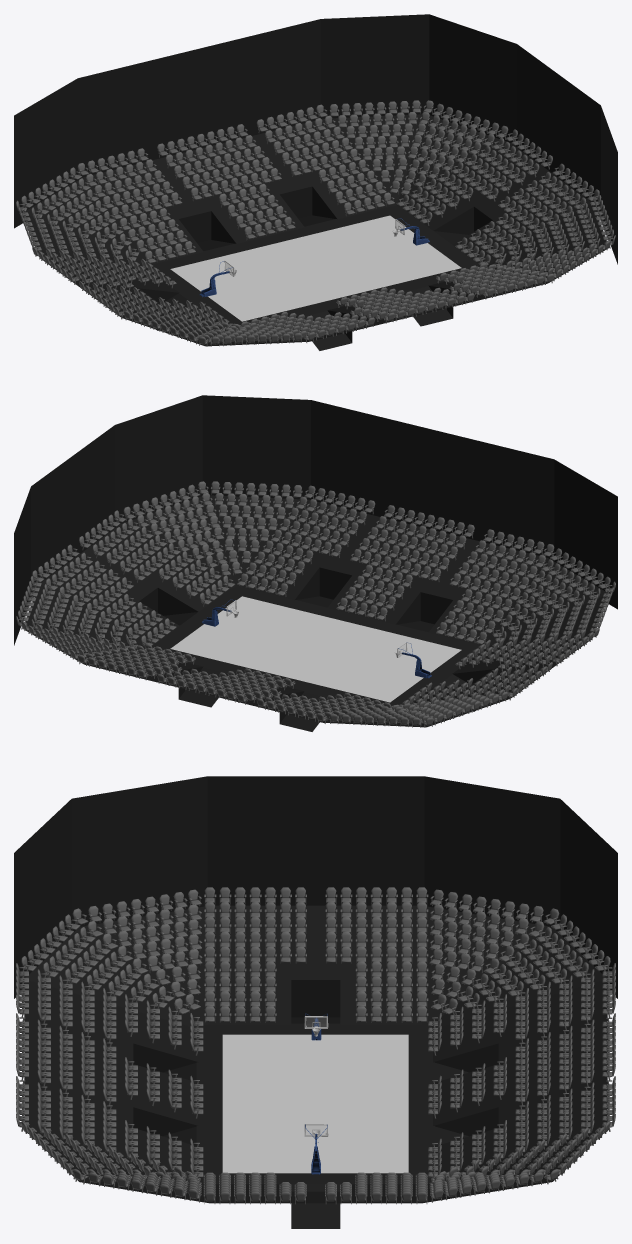
File: SM_Court.fbx
3 views of the same model, one above another, from view 1: azimuth 30°, elevation 25°; view 2: azimuth 150°, elevation 25°; view 3: azimuth 270°, elevation 25° (orthographic). The views are drawn at different scales.
Parts seen in each view (by area): view 1: Seating, Plane.002, SM_Court, SM_CourtPerimeterFloor; view 2: Seating, Plane.002, SM_Court, SM_CourtPerimeterFloor; view 3: Seating, Plane.002, SM_Court, SM_CourtPerimeterFloor.
Boxes of the visible parts, x1,y1,x2,y2 form: Seating: [16, 100, 615, 350]; Plane.002: [14, 14, 617, 264]; SM_Court: [170, 215, 461, 321]; SM_CourtPerimeterFloor: [147, 206, 479, 325]; Seating: [16, 481, 615, 731]; Plane.002: [14, 395, 617, 645]; SM_Court: [170, 596, 461, 702]; SM_CourtPerimeterFloor: [152, 587, 484, 706]; Seating: [16, 887, 615, 1228]; Plane.002: [14, 776, 617, 998]; SM_Court: [222, 1034, 408, 1173]; SM_CourtPerimeterFloor: [196, 1023, 434, 1184].
Size of the model in its own units: 7463 by 2190 by 6203.
